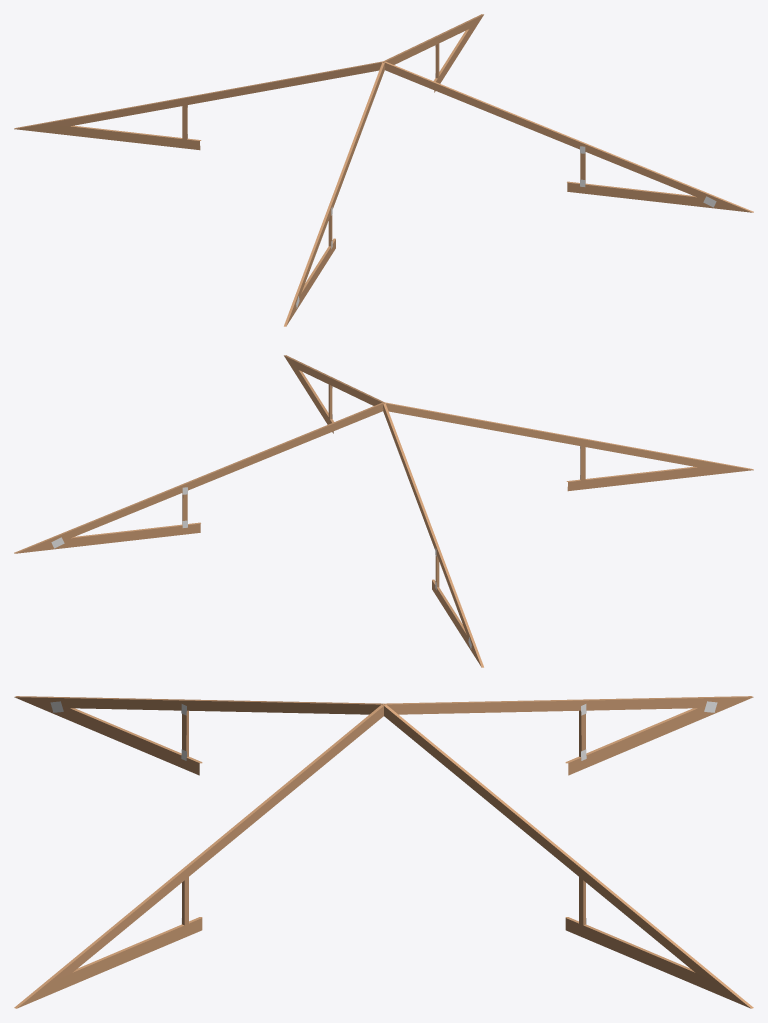
The picture shows the model from 3 angles, top to bottom: view 1: azimuth 30°, elevation 25°; view 2: azimuth 150°, elevation 25°; view 3: azimuth 270°, elevation 25°; orthographic projection. The views are drawn at different scales.
Visible parts, largest first — view 1: Eckbinder.001, Eckbinder.003, Eckbinder.002, Eckbinder; view 2: Eckbinder, Eckbinder.002, Eckbinder.003, Eckbinder.001; view 3: Eckbinder.001, Eckbinder, Eckbinder.002, Eckbinder.003.
Part boxes in pixels (<box>): Eckbinder.001: <box>383,61,753,212</box>; Eckbinder.003: <box>14,61,385,150</box>; Eckbinder.002: <box>284,61,384,326</box>; Eckbinder: <box>383,14,483,92</box>; Eckbinder: <box>14,402,384,553</box>; Eckbinder.002: <box>382,402,753,491</box>; Eckbinder.003: <box>383,402,483,667</box>; Eckbinder.001: <box>284,355,384,433</box>; Eckbinder.001: <box>14,703,385,1008</box>; Eckbinder: <box>382,703,753,1008</box>; Eckbinder.002: <box>14,696,385,775</box>; Eckbinder.003: <box>382,696,753,775</box>.
Size of the model in its own units: 11.46 by 2.54 by 11.46.
